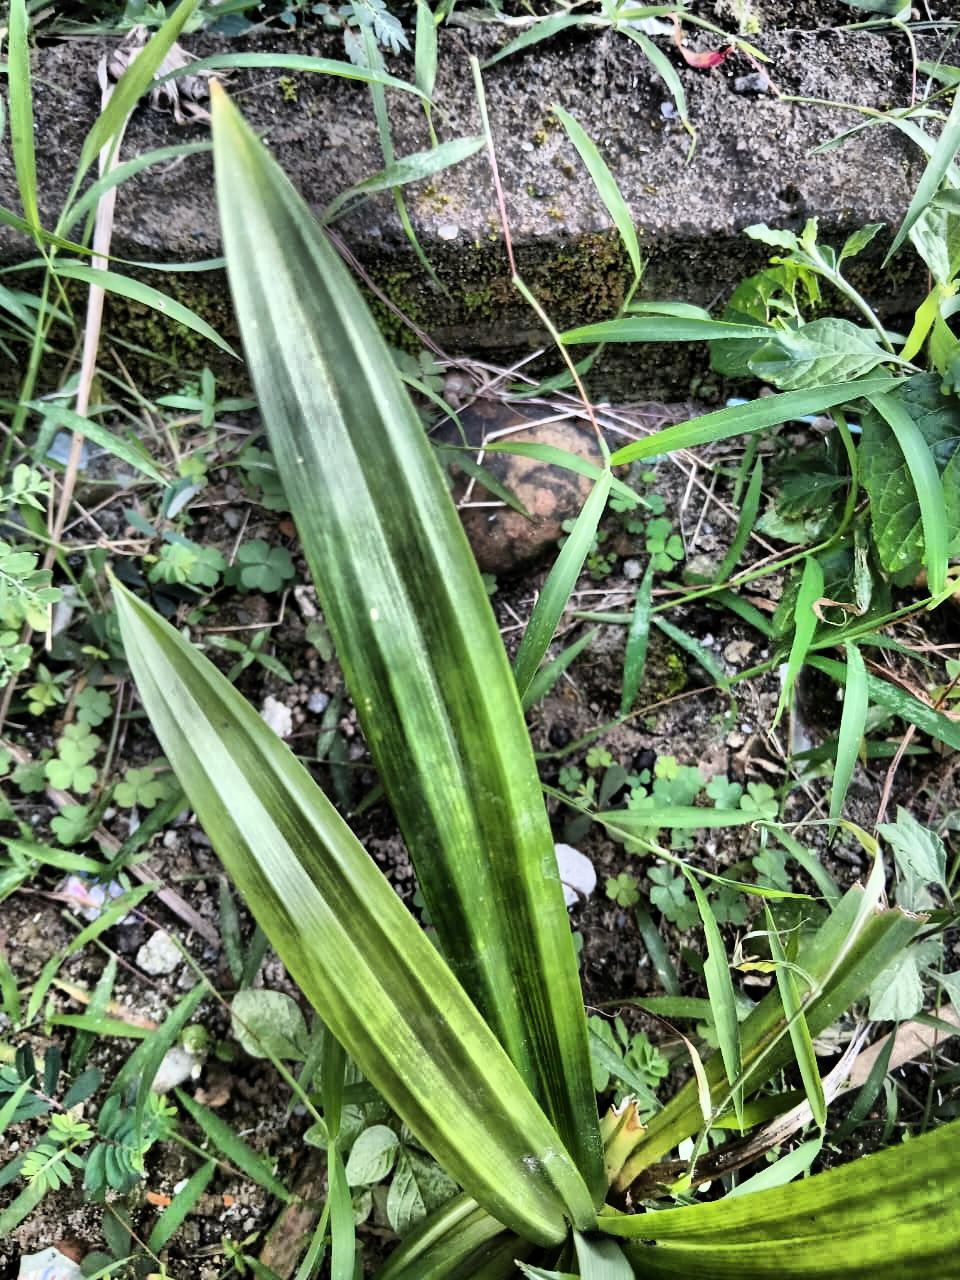daun pandan: (113, 86, 959, 1279)
